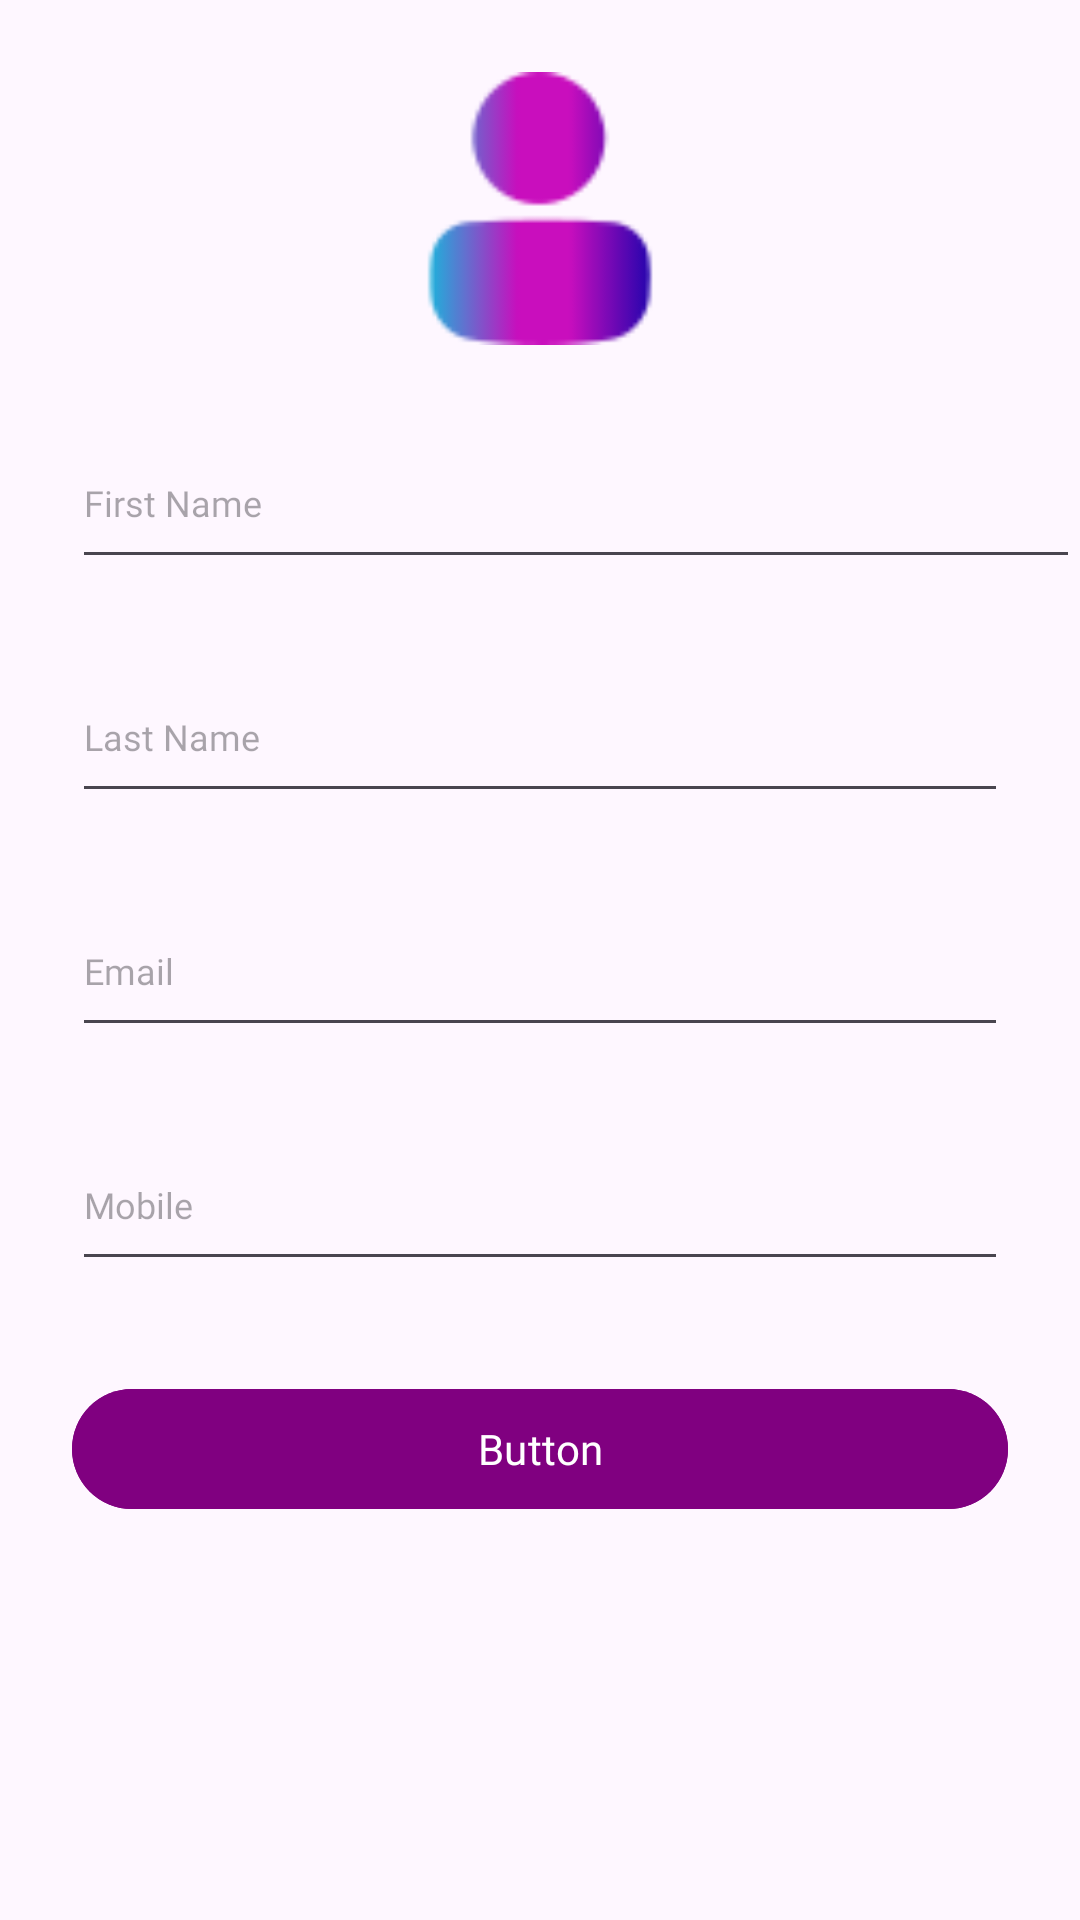

Icons on this 1080*1920 Android screen, each with its box as (x1, y1, x2, y2):
profile: (428, 72, 653, 345)
